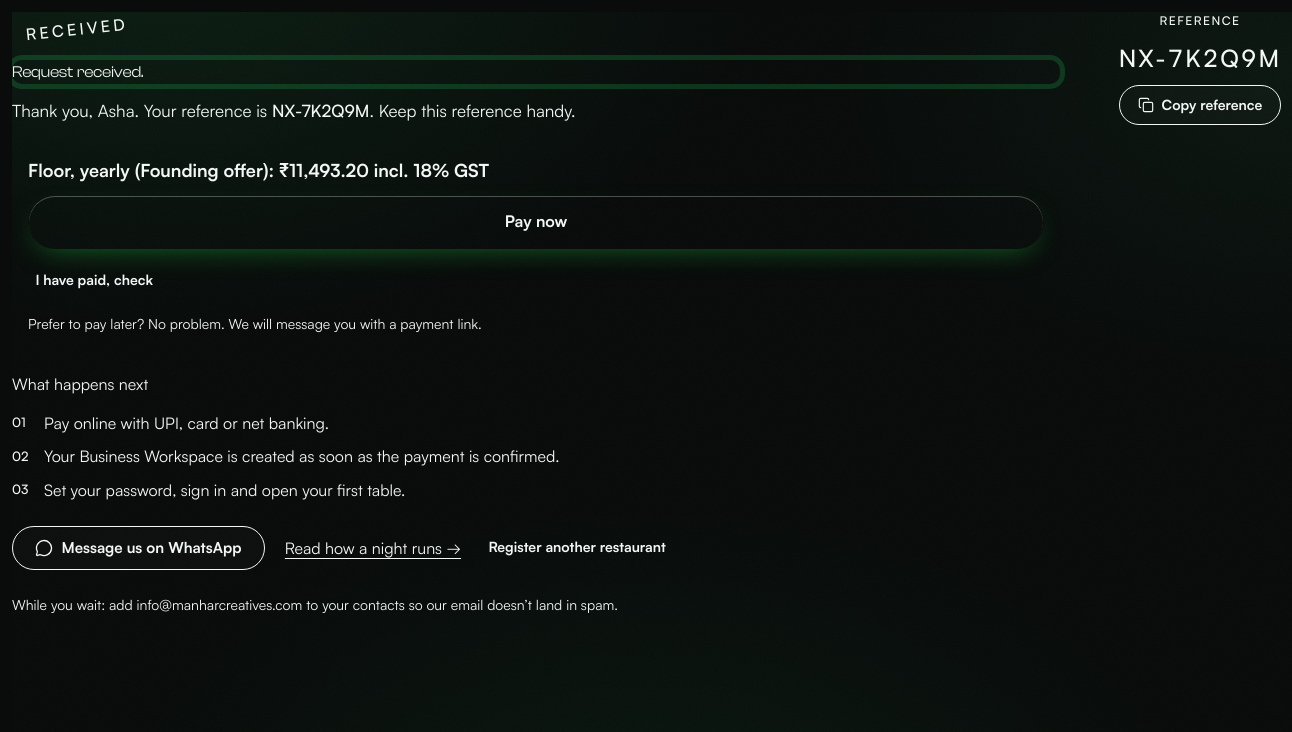
Test: RegistrationTicket: claim the account after paying › "manual" stops the wait at once and says a person is finishing the account
The image size is (1292, 732).
Click the button "I have paid, check".
click(94, 281)  # box [28,261,160,301]
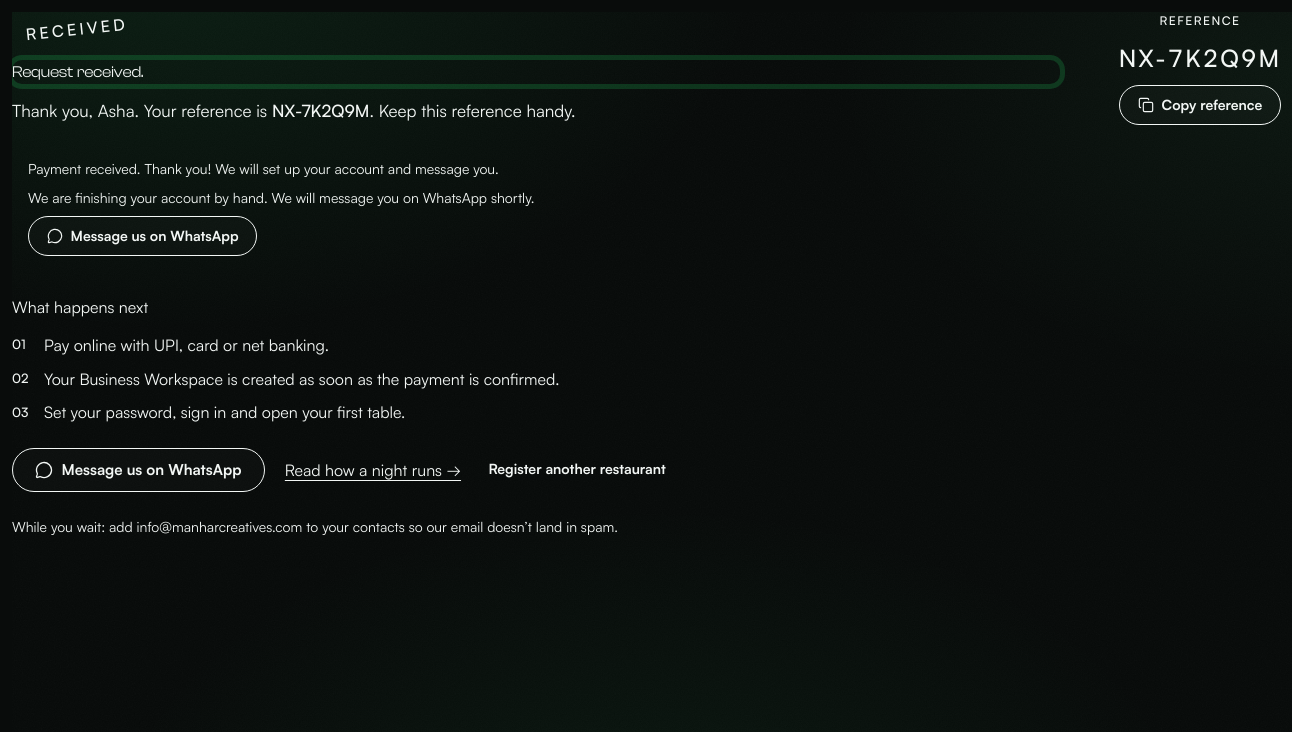
Now the element with test id "claim" shows "We are finishing your account by hand. We will message you on WhatsApp shortly.", box [28,189,534,206]
